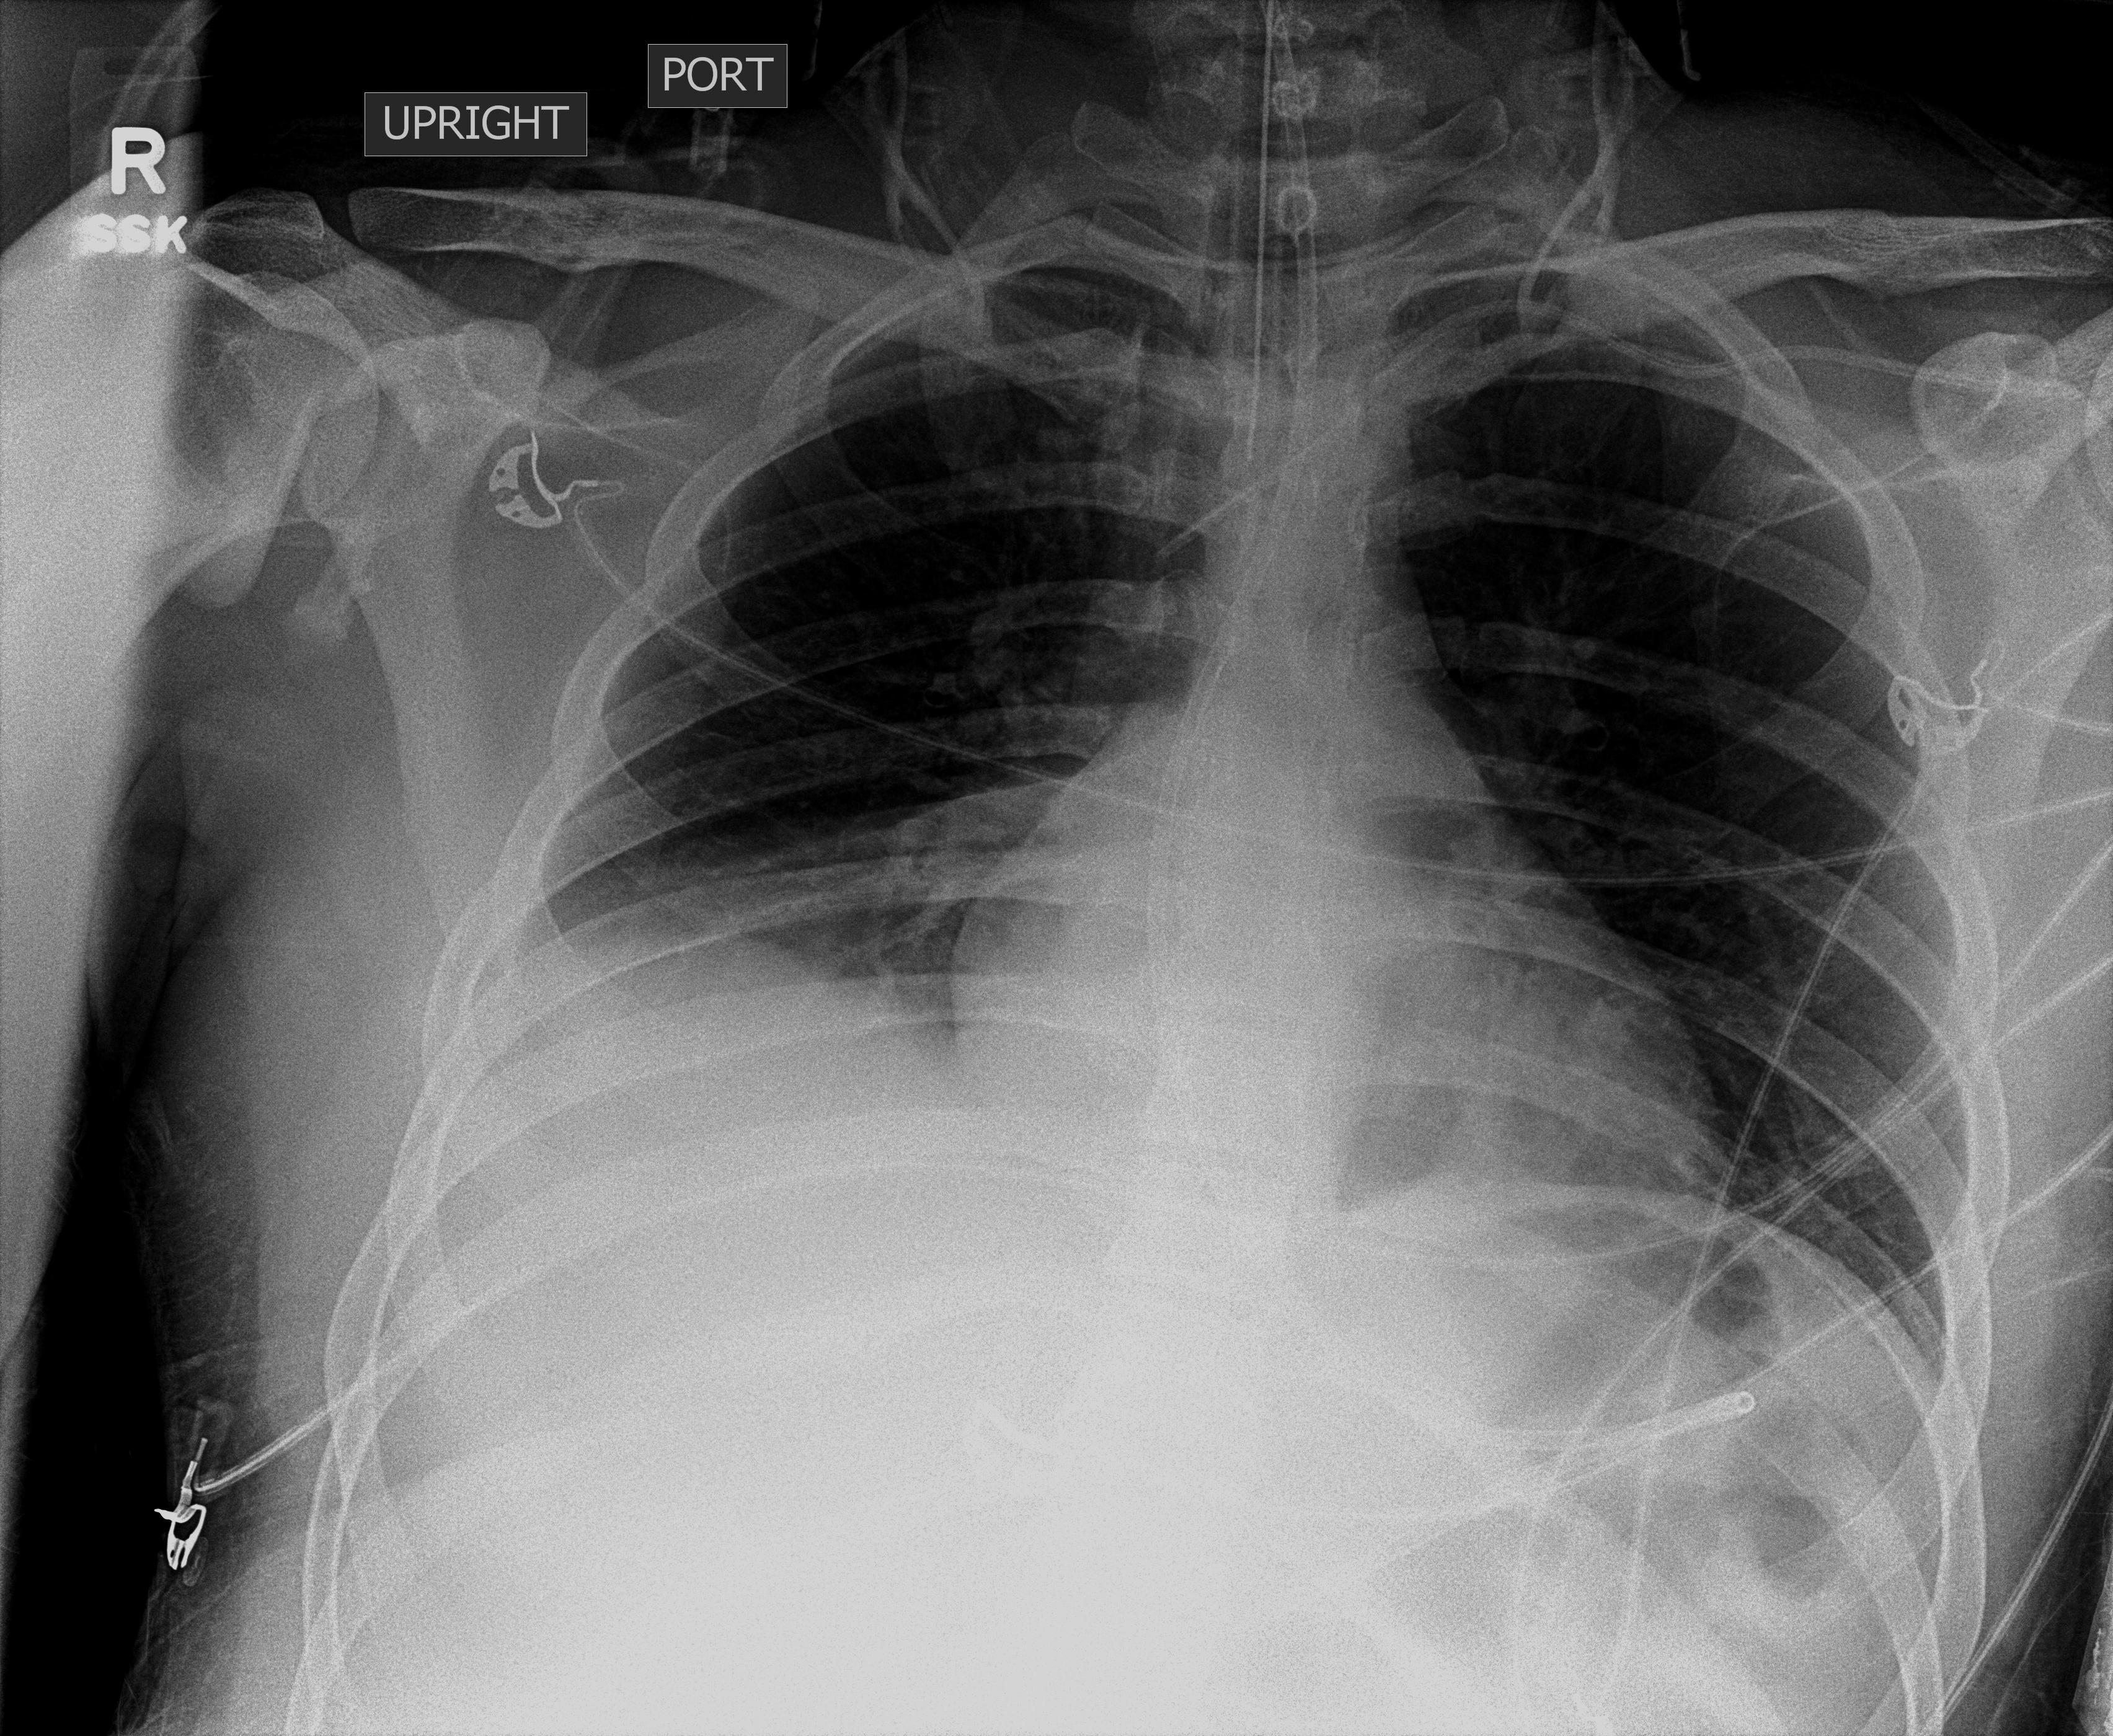Pleural Effusion: (360, 881, 988, 1332)
